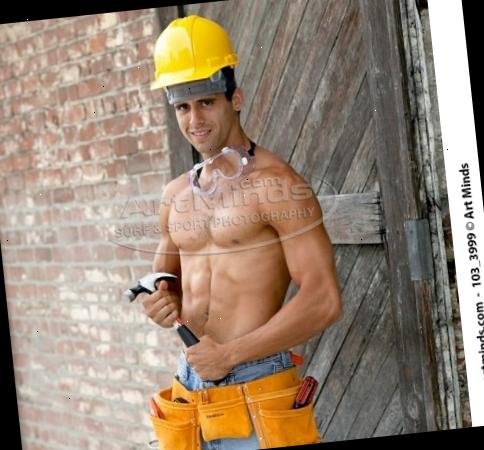helmet: (144, 11, 246, 96)
no_wear: (152, 158, 302, 374)
